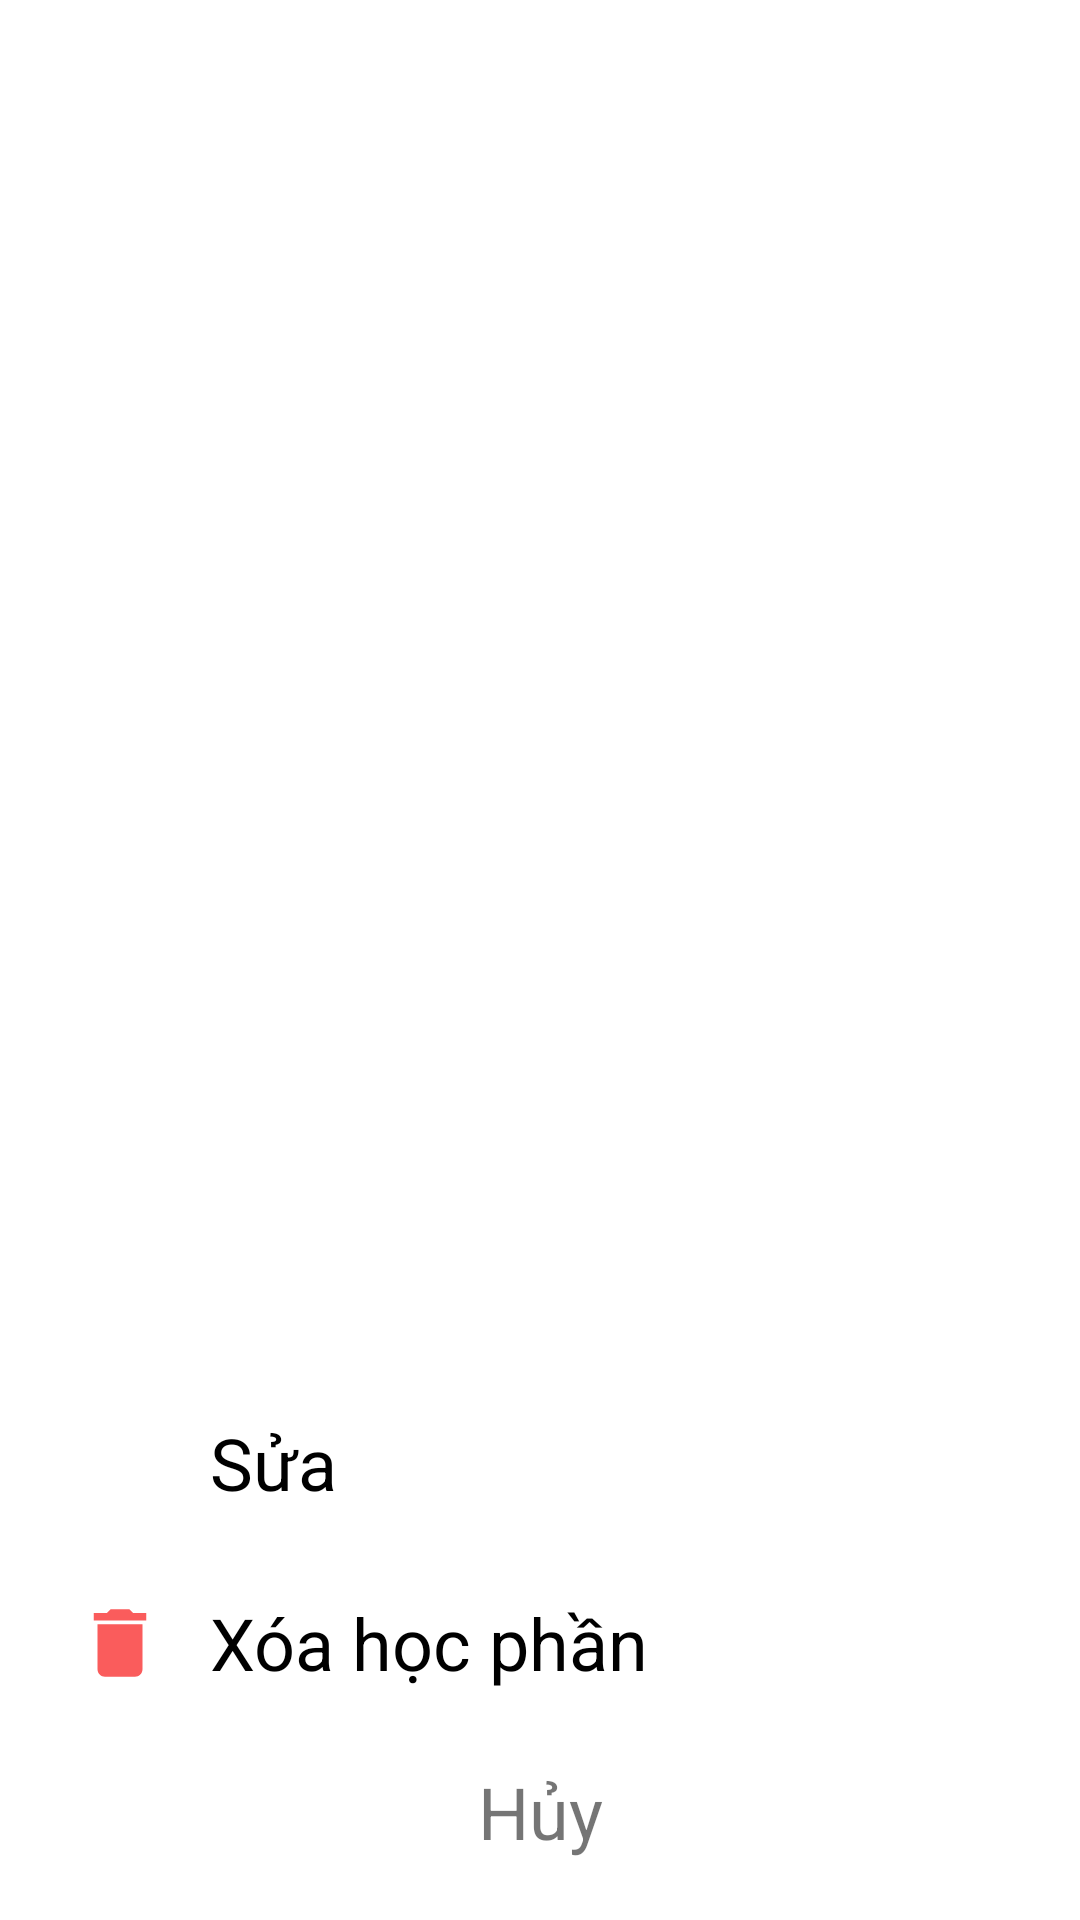

Named icons in this screenshot (1080w x 1920h) and their centers, (x,y):
delete: (120,1643)
